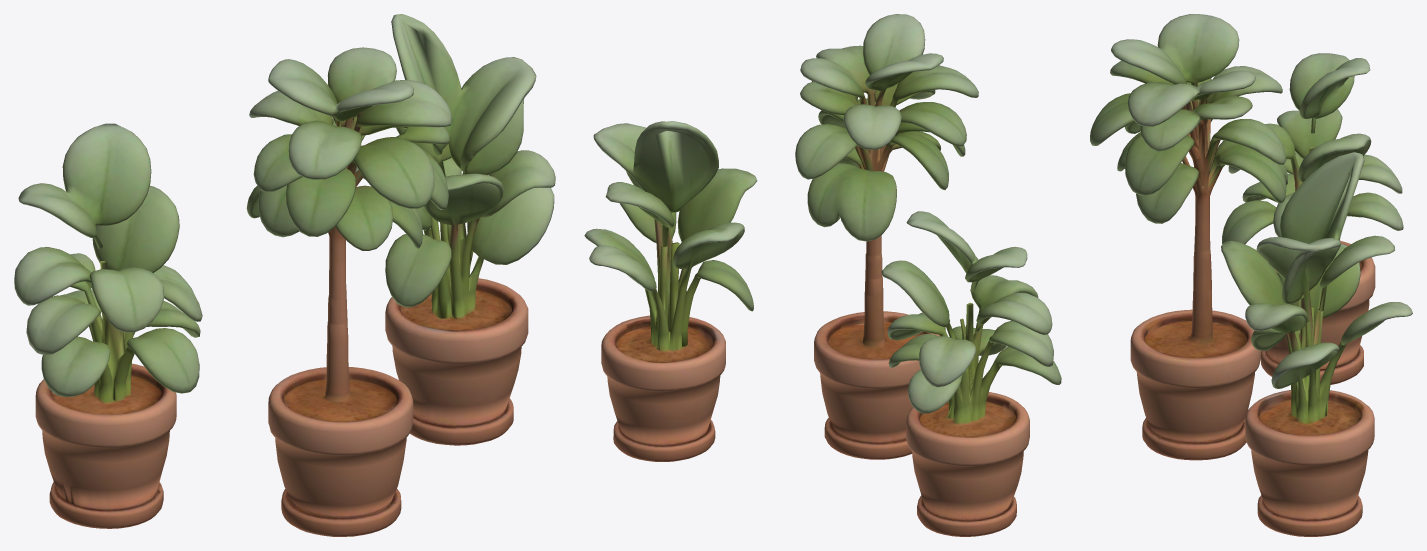
File: Plants_3.glb
3 views of the same model, side by side, from view 1: azimuth 30°, elevation 25°; view 2: azimuth 150°, elevation 25°; view 3: azimuth 270°, elevation 25° (orthographic). The views are drawn at different scales.
Parts seen in each view (by area): view 1: material; view 2: material; view 3: material.
Boxes of the visible parts, bbox=[...] form: material: bbox=[14, 14, 555, 536]; material: bbox=[584, 14, 1061, 536]; material: bbox=[1090, 14, 1412, 536].
Bounding box in the file's own units: 1.9 × 1.55 × 1.14.
Materials: 1 (1 with a texture image).
